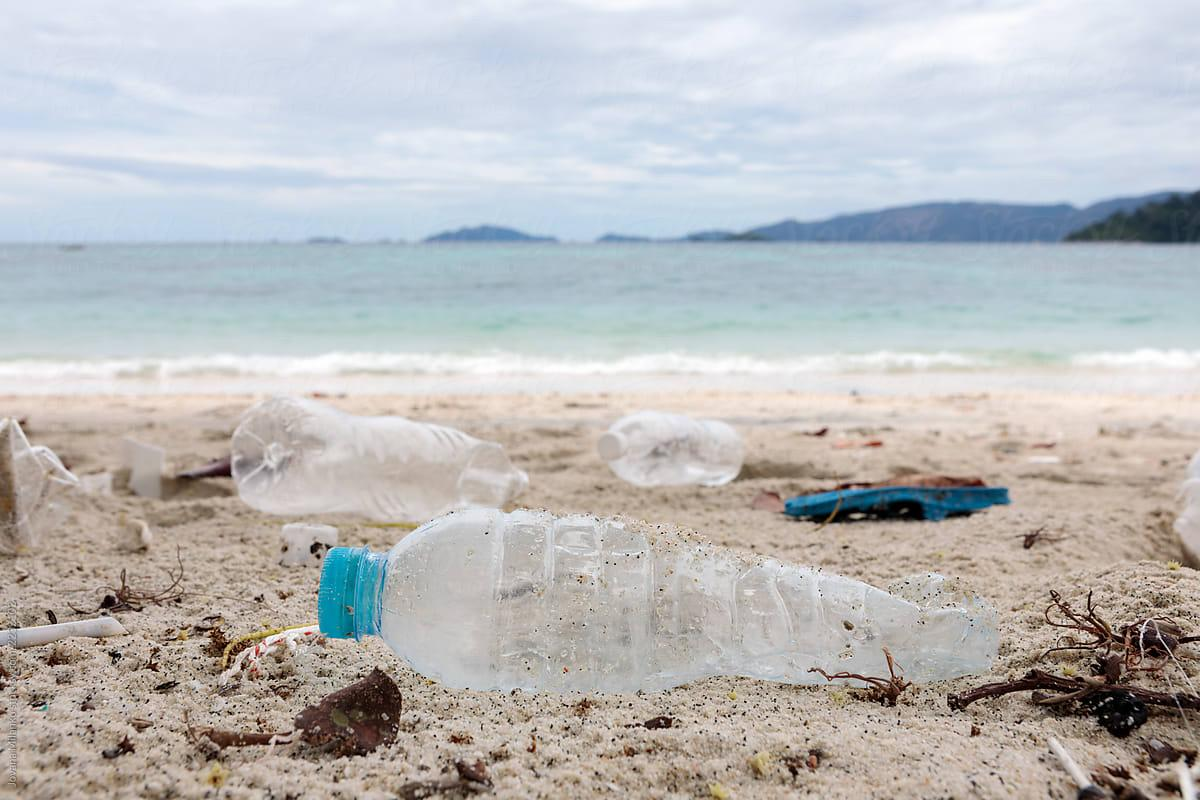bottle: (311, 520, 1026, 736)
